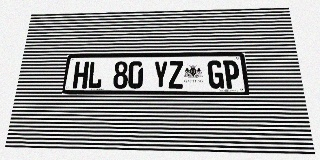0: (128, 61, 143, 89)
8: (113, 61, 129, 89)
G: (207, 60, 224, 89)
H: (72, 62, 89, 88)
L: (87, 61, 103, 88)
P: (223, 60, 241, 89)
Y: (153, 61, 168, 89)
Z: (168, 61, 184, 89)
